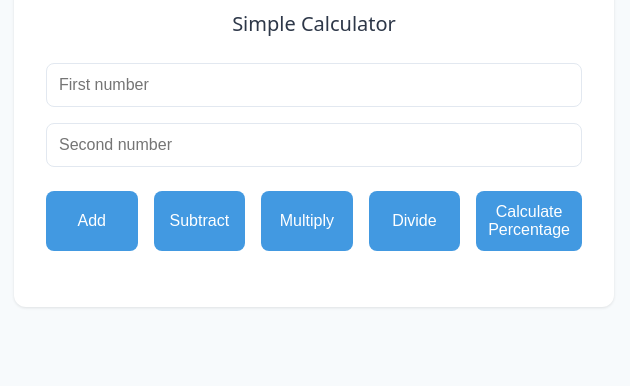
it: Calculator Component › should show error for invalid operation
Step 1. Type "2" into the number field with test id "num1-input" → point(314, 85), box [46,63,582,107]
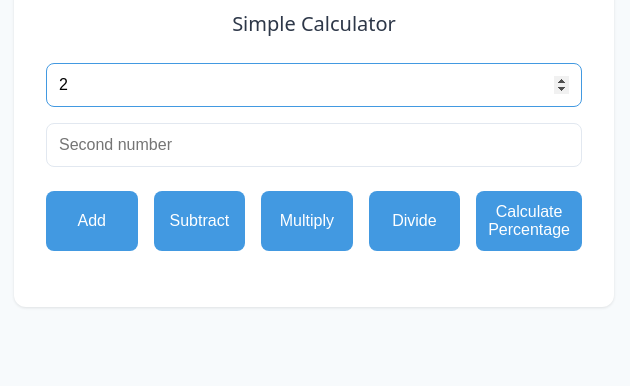
Step 2. Type "2" into the number field with test id "num2-input" → point(314, 145), box [46,123,582,167]
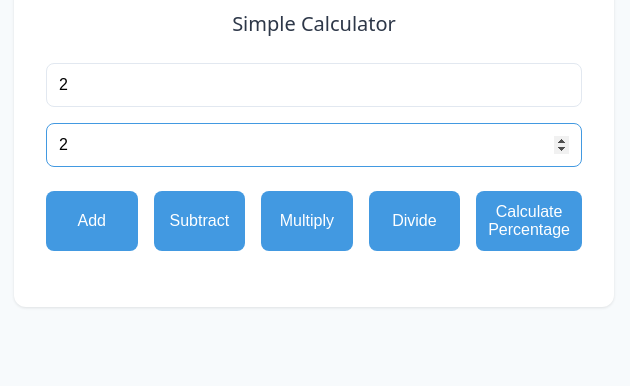
Step 3. Click the button with test id "percentage-button" → point(529, 221), box [476,191,582,251]
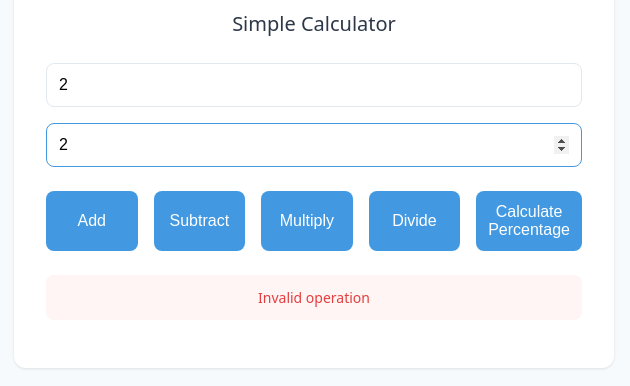
Result: the text with test id "error-message" reads "Invalid operation" at [258,288,370,307]
